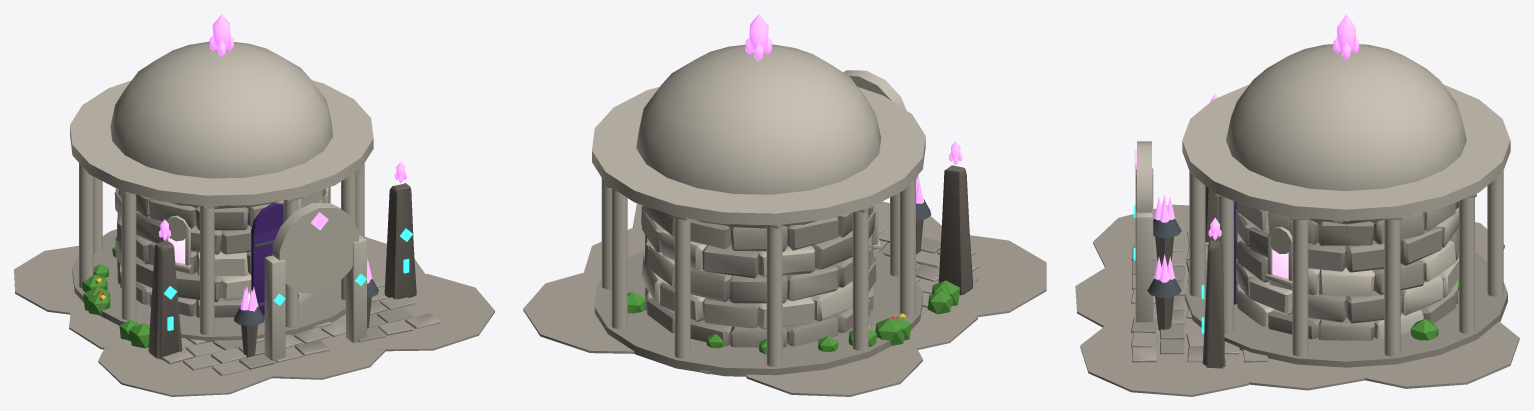
File: budynek_fuzji_poz14.glb
3 views of the same model, side by side, from view 1: azimuth 30°, elevation 25°; view 2: azimuth 150°, elevation 25°; view 3: azimuth 270°, elevation 25° (orthographic). The views are drawn at different scales.
Parts seen in each view (by area): view 1: budynek_fuzji_poz14; view 2: budynek_fuzji_poz14; view 3: budynek_fuzji_poz14.
Part boxes in pixels (x1,y1,x2,y2): budynek_fuzji_poz14: (14,14,494,396); budynek_fuzji_poz14: (523,14,1046,396); budynek_fuzji_poz14: (1075,14,1519,396).
Size of the model in its own units: 8.92 by 6.42 by 8.79.
